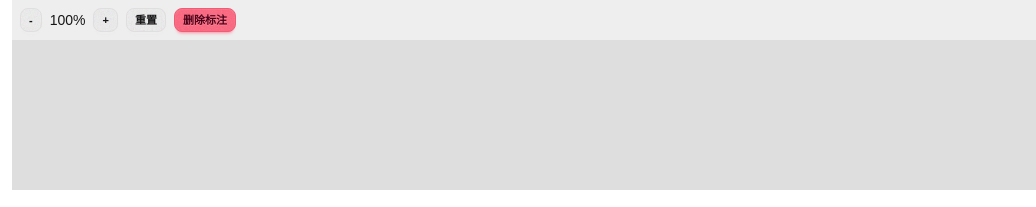
Test: AnnotationCanvas component › delete button removes selected annotation and disables afterward
Step 1. Click the button "删除标注" → [205, 20], box [174,8,236,32]
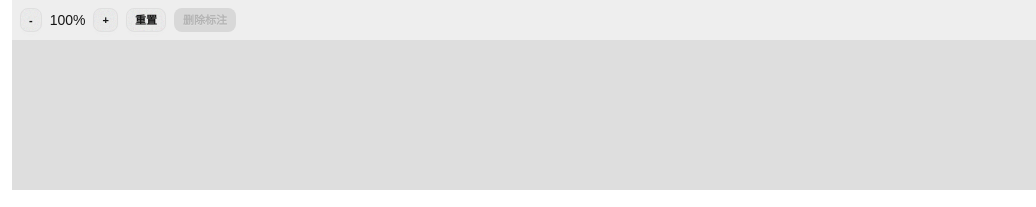
expect the button "删除标注" is disabled: met, box [174,8,236,32]
